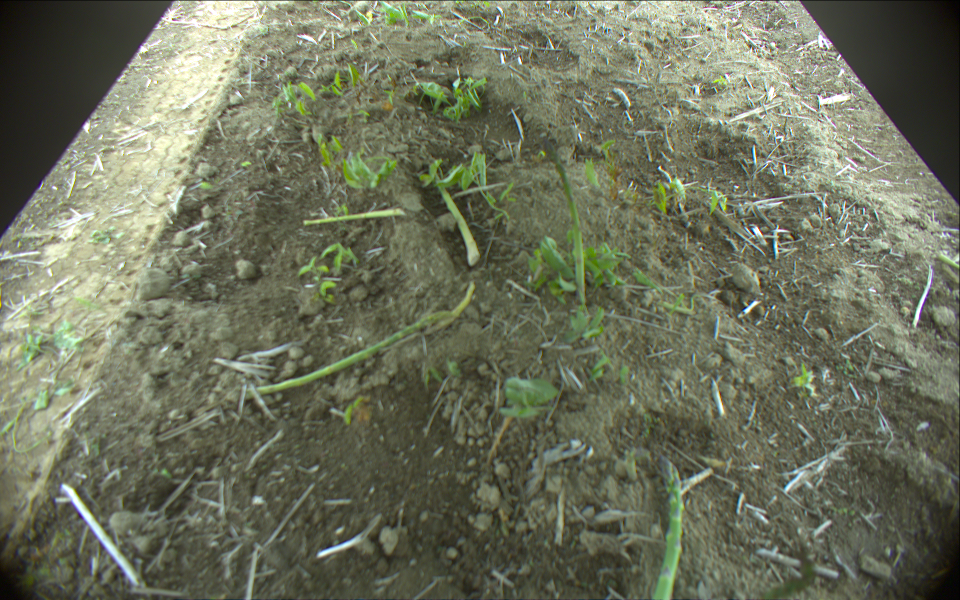aspa: (241, 311, 450, 403), (650, 456, 687, 600), (429, 171, 481, 261), (557, 161, 589, 305), (300, 208, 404, 227)
